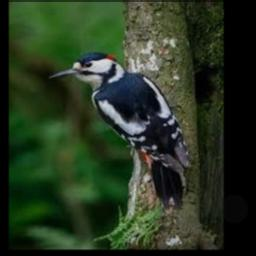Woodpecker: (49, 51, 191, 208)
